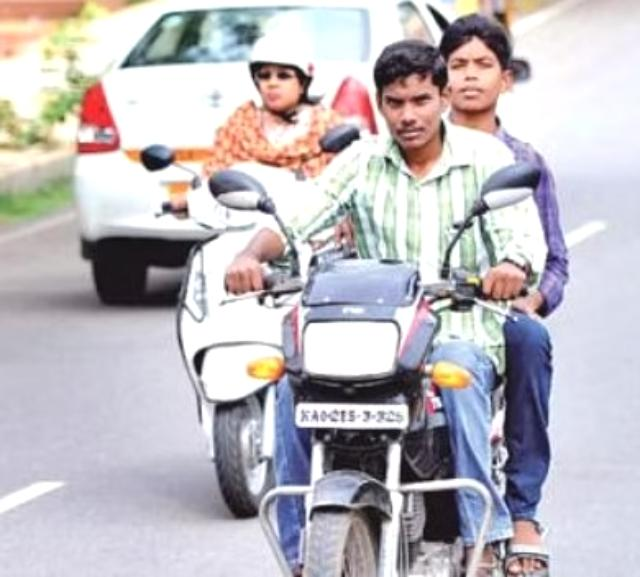licensePlate: (294, 406, 409, 430)
motorcycle: (271, 15, 567, 577), (169, 31, 370, 488)
withHelmet: (243, 39, 316, 120)
withoutHelmet: (448, 21, 513, 112), (379, 59, 445, 147)
